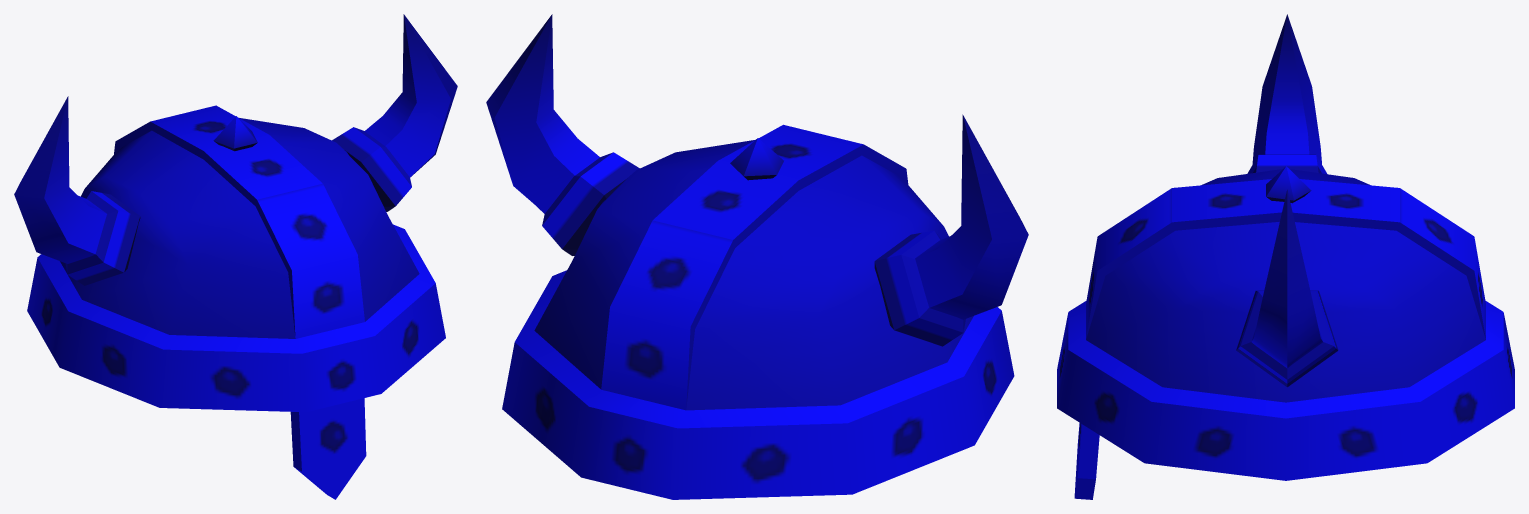
Rendered from HornedHelm_M.fbx.
The picture shows the model from 3 angles, left to right: view 1: azimuth 30°, elevation 25°; view 2: azimuth 150°, elevation 25°; view 3: azimuth 270°, elevation 25°; orthographic projection. The views are drawn at different scales.
Visible parts, largest first — view 1: HornedHelm_M; view 2: HornedHelm_M; view 3: HornedHelm_M.
Part boxes in pixels (x1,y1,x2,y2): HornedHelm_M: [14, 14, 457, 499]; HornedHelm_M: [486, 14, 1028, 499]; HornedHelm_M: [1057, 14, 1514, 499].
Bounding box in the file's own units: 37.76 × 30.36 × 31.61.
